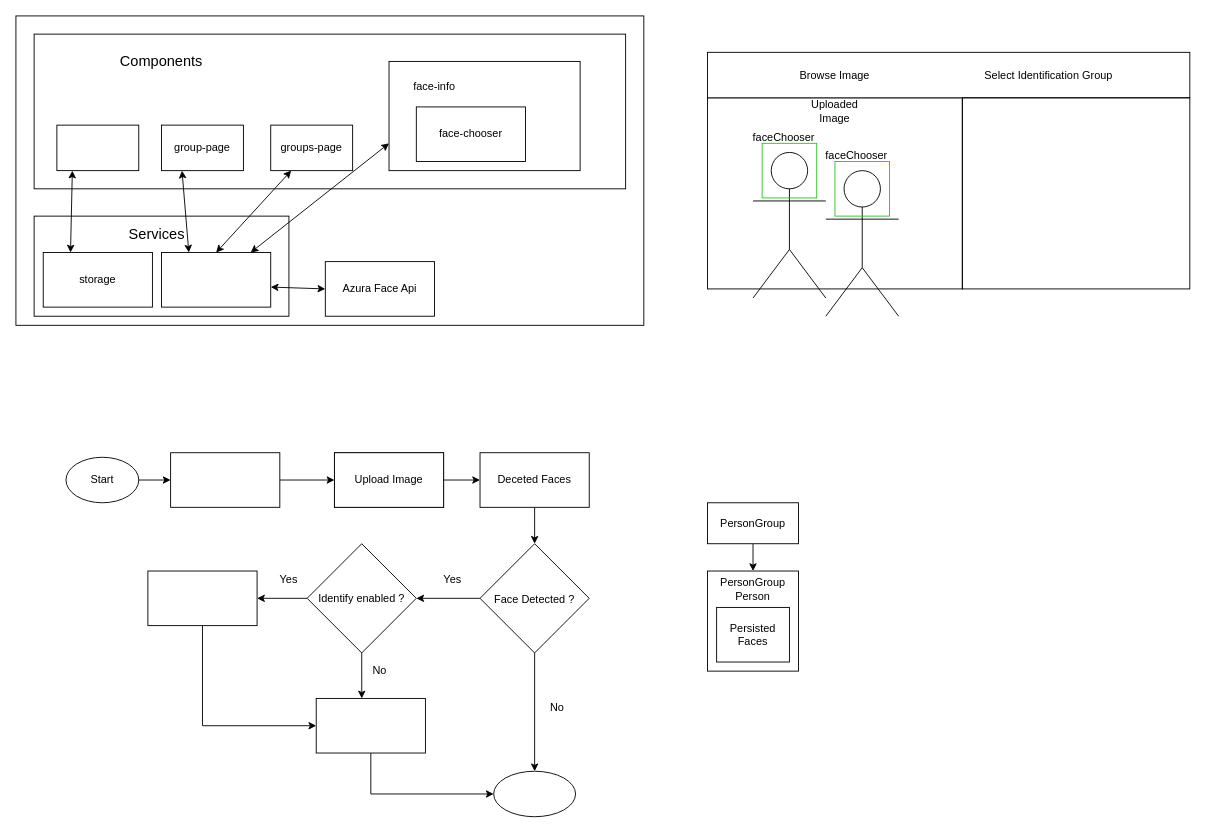
This 1206x833 diagram has some shape labels left out. Here are the shapes that lost their labels. From the top down, the centre of each, then its label:
At pixel 97 147: "person-page".
At pixel 1075 193: "Detected result".
At pixel 216 279: "face-service".
At pixel 225 479: "Select Group".
At pixel 202 598: "Check Group Person List".
At pixel 370 725: "Show Result".
At pixel 534 793: "Stop".
